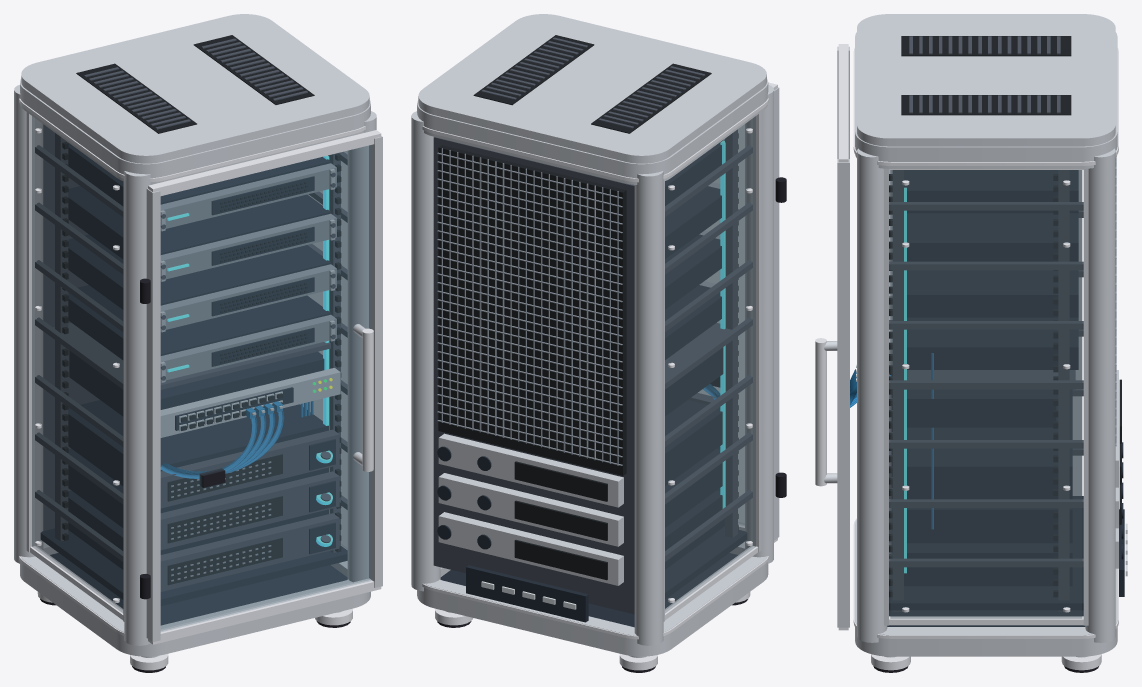
File: semester-1.glb
3 views of the same model, side by side, from view 1: azimuth 30°, elevation 25°; view 2: azimuth 150°, elevation 25°; view 3: azimuth 270°, elevation 25° (orthographic). The views are drawn at different scales.
Visible parts, largest first — view 1: Door_glass, Body_silver, Body_black, Body_rear_glass, Body_dark, Body_vent, Body_server, Door_silver, Door_chrome, Body_chrome, Body_cable, Body_led (+2 smaller); view 2: Body_silver, Body_vent, Body_rear_glass, Body_dark, Body_black, Body_server, Body_chrome, Door_silver, Door_glass, Body_led, Body_rubber; view 3: Body_rear_glass, Body_silver, Body_black, Body_dark, Body_vent, Door_silver, Body_chrome, Door_chrome, Body_led, Body_server, Body_cable.
Part boxes in pixels (x1,y1,x2,y2): Door_glass: (161,145,372,631); Body_silver: (14,14,376,657); Body_black: (40,143,347,625); Body_rear_glass: (32,116,347,612); Body_dark: (35,38,347,591); Body_vent: (62,35,341,585); Body_server: (160,163,336,581); Door_silver: (146,136,382,641); Door_chrome: (148,130,381,644); Body_chrome: (19,98,365,670); Body_cable: (160,401,313,478); Body_led: (167,155,332,546); Body_silver: (411,14,773,657); Body_vent: (438,35,738,580); Body_rear_glass: (665,116,755,612); Body_dark: (433,37,752,614); Body_black: (437,139,747,627); Body_server: (437,139,724,465); Body_chrome: (422,98,768,670); Door_silver: (774,87,779,540); Door_glass: (698,125,744,524); Body_led: (720,140,725,508); Body_rubber: (437,177,786,672); Body_rear_glass: (890,170,1082,618); Body_silver: (855,14,1118,657); Body_black: (887,170,1124,626); Body_dark: (889,36,1083,611); Body_vent: (889,36,1121,597); Door_silver: (824,46,849,627); Body_chrome: (853,48,1118,670); Door_chrome: (815,44,848,630); Body_led: (904,187,906,573); Body_server: (889,157,1116,446); Body_cable: (850,353,933,529).
Size of the model in its own units: 1.35 by 2.7 by 1.4.
